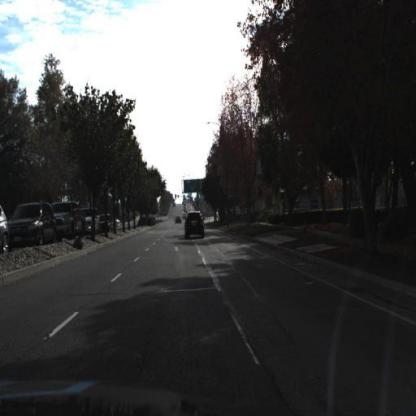car: (7, 201, 58, 248), (55, 201, 85, 242), (184, 210, 204, 238), (84, 207, 100, 234), (100, 214, 111, 233), (175, 214, 181, 225)
